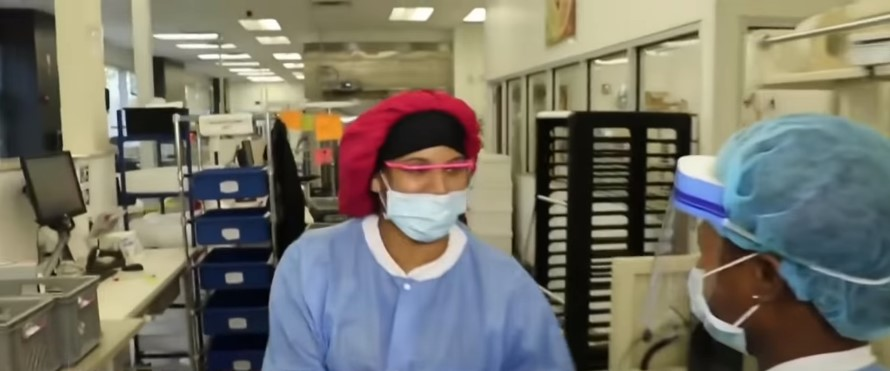face_with_mask: (655, 119, 883, 354), (346, 94, 480, 241)
